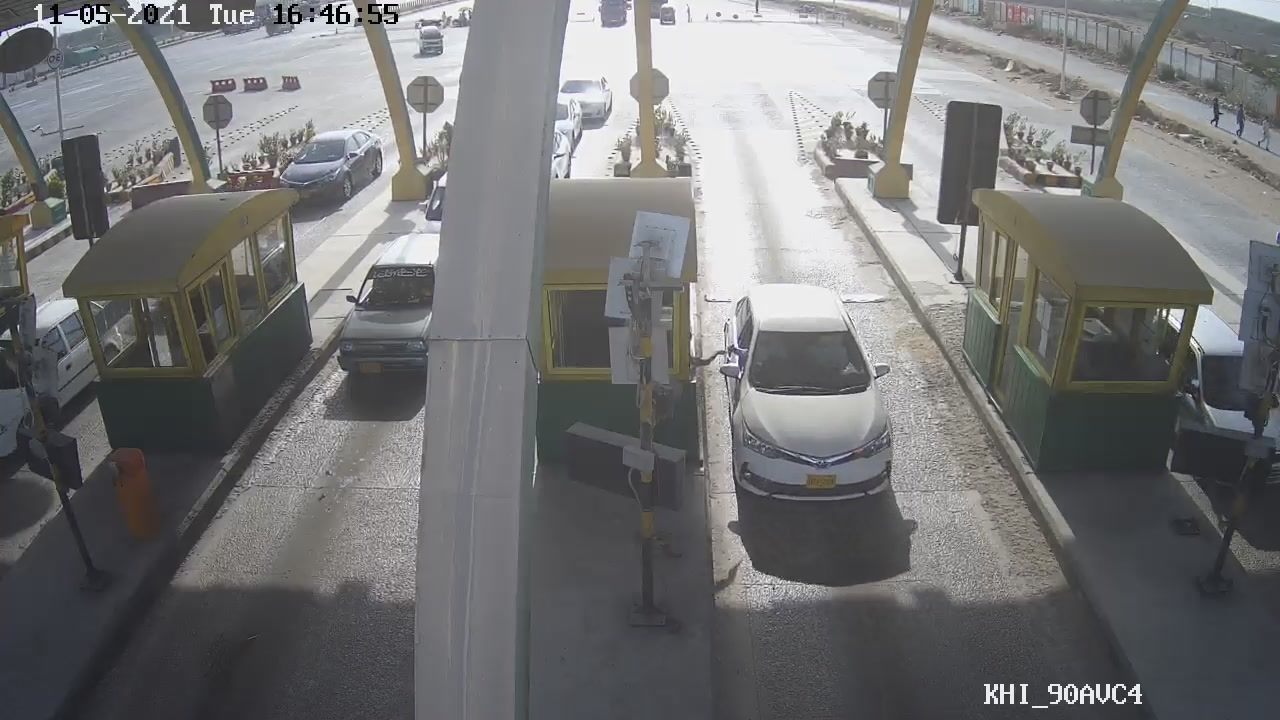F1: (709, 274, 905, 511)
